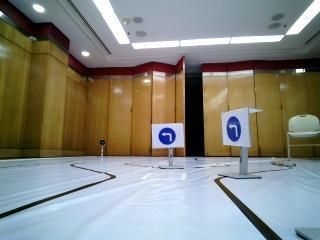left: (223, 110, 253, 146), (150, 121, 185, 146)
